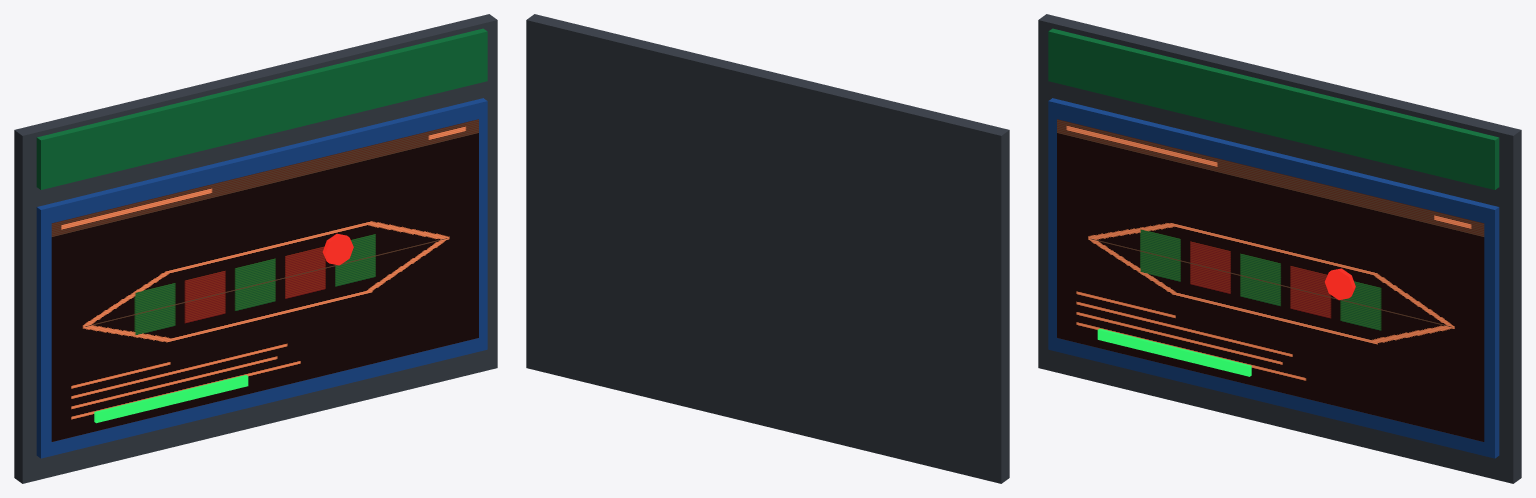
File: safety_evac_route_map.glb
3 views of the same model, side by side, from view 1: azimuth 30°, elevation 25°; view 2: azimuth 150°, elevation 25°; view 3: azimuth 330°, elevation 25° (orthographic).
Visible parts, largest first — view 1: safety_evac_route_map; view 2: safety_evac_route_map; view 3: safety_evac_route_map.
Boxes of the visible parts, x1=… form: safety_evac_route_map: x1=14, y1=14, x2=497, y2=483; safety_evac_route_map: x1=526, y1=14, x2=1009, y2=483; safety_evac_route_map: x1=1038, y1=14, x2=1521, y2=483.
Bounding box in the file's own units: 1 × 0.7 × 0.06.
6 materials, 1 textured.
